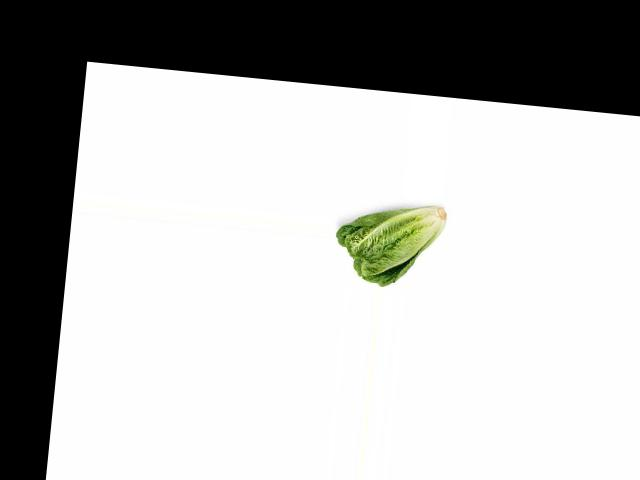lettuce: (332, 195, 449, 291)
